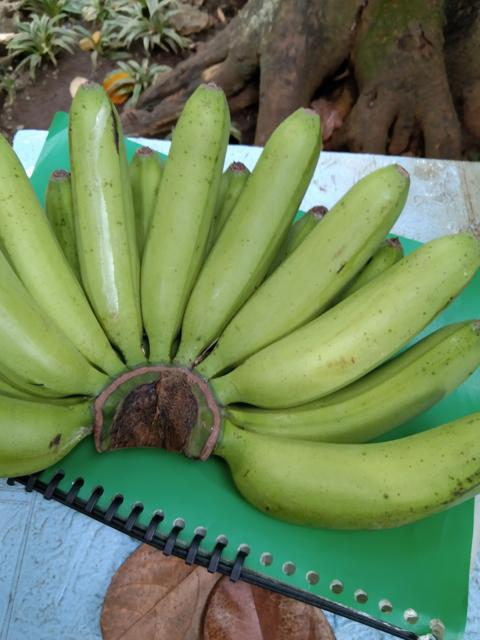freshunripe: (208, 155, 418, 381), (214, 233, 479, 400), (169, 93, 326, 357), (226, 403, 479, 533), (239, 317, 478, 444), (0, 133, 118, 380), (135, 75, 230, 354), (0, 267, 97, 396), (0, 375, 104, 486)
